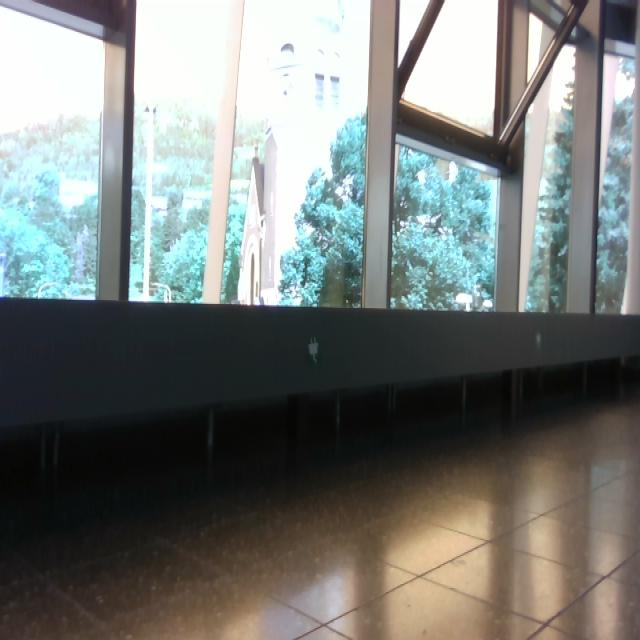light bulb: (445, 161, 459, 185), (308, 337, 319, 364), (416, 169, 427, 185)
pillar: (202, 1, 246, 304)
tiled floor: (2, 388, 639, 638)
window: (1, 1, 639, 317)
